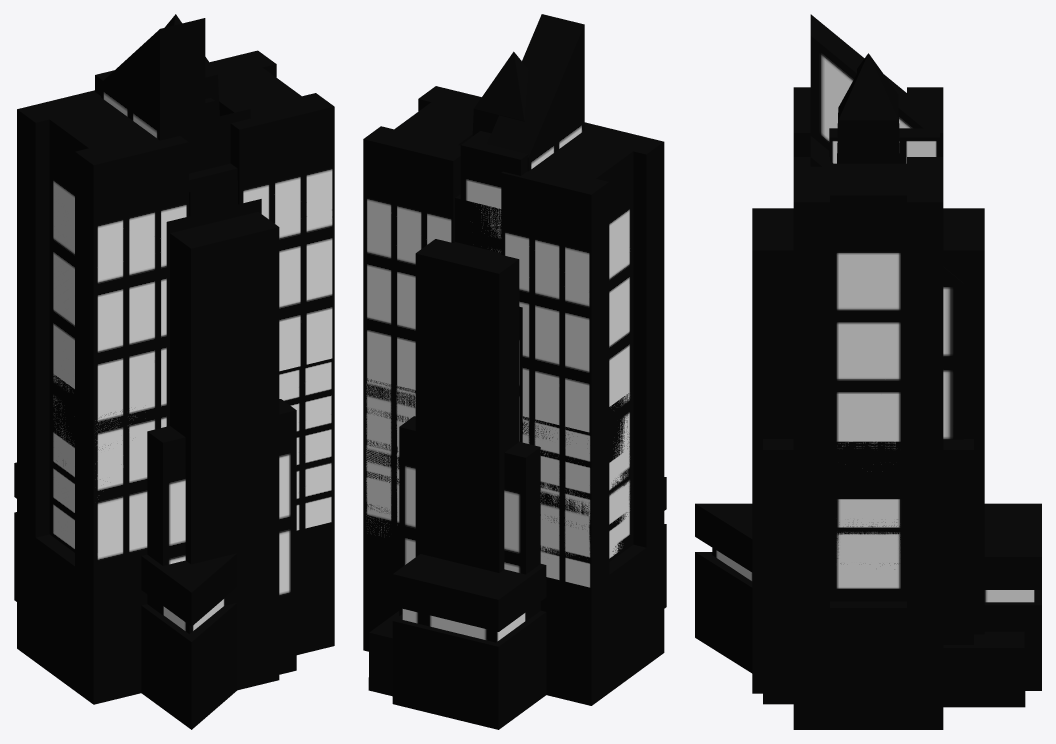
The model's file is Buildings.fbx.
3 renders of one model, left to right at view 1: azimuth 30°, elevation 25°; view 2: azimuth 150°, elevation 25°; view 3: azimuth 270°, elevation 25°, orthographic. The views are drawn at different scales.
Visible parts, largest first — view 1: b02, b14, b16, b10, b15, b13, b04, b00; view 2: b02, b14, b16, b10, b15, b13, b17, b00, b04; view 3: b02, b16, b10, b14, b13, b15, b00, b17.
Boxes of the visible parts, x1,y1,x2,y2 form: b02: (17, 50, 334, 704); b14: (170, 163, 279, 690); b16: (17, 358, 334, 704); b10: (14, 462, 237, 729); b15: (101, 18, 250, 173); b13: (147, 399, 296, 674); b04: (166, 180, 261, 426); b00: (164, 14, 219, 117); b02: (363, 86, 664, 705); b14: (415, 194, 519, 572); b16: (363, 377, 664, 705); b10: (368, 477, 666, 729); b15: (487, 14, 584, 171); b13: (399, 416, 540, 621); b17: (460, 131, 528, 252); b00: (472, 51, 528, 135); b04: (519, 306, 522, 442); b02: (793, 87, 943, 624); b16: (793, 441, 943, 729); b10: (695, 503, 1041, 707); b14: (752, 208, 984, 693); b13: (763, 439, 973, 704); b15: (810, 14, 963, 439); b00: (837, 53, 899, 163); b17: (829, 107, 939, 163).
Size of the model in its own units: 2.97 by 7.68 by 3.79.
1 material, 1 textured.
